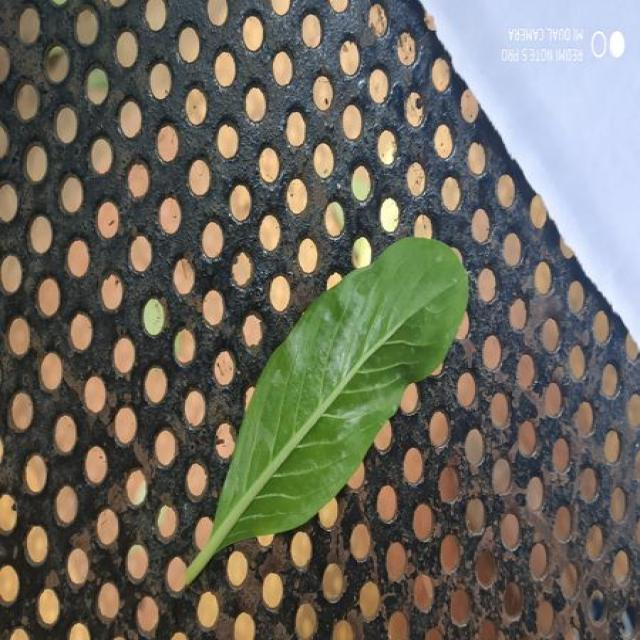catharanthus: (185, 238, 468, 583)
